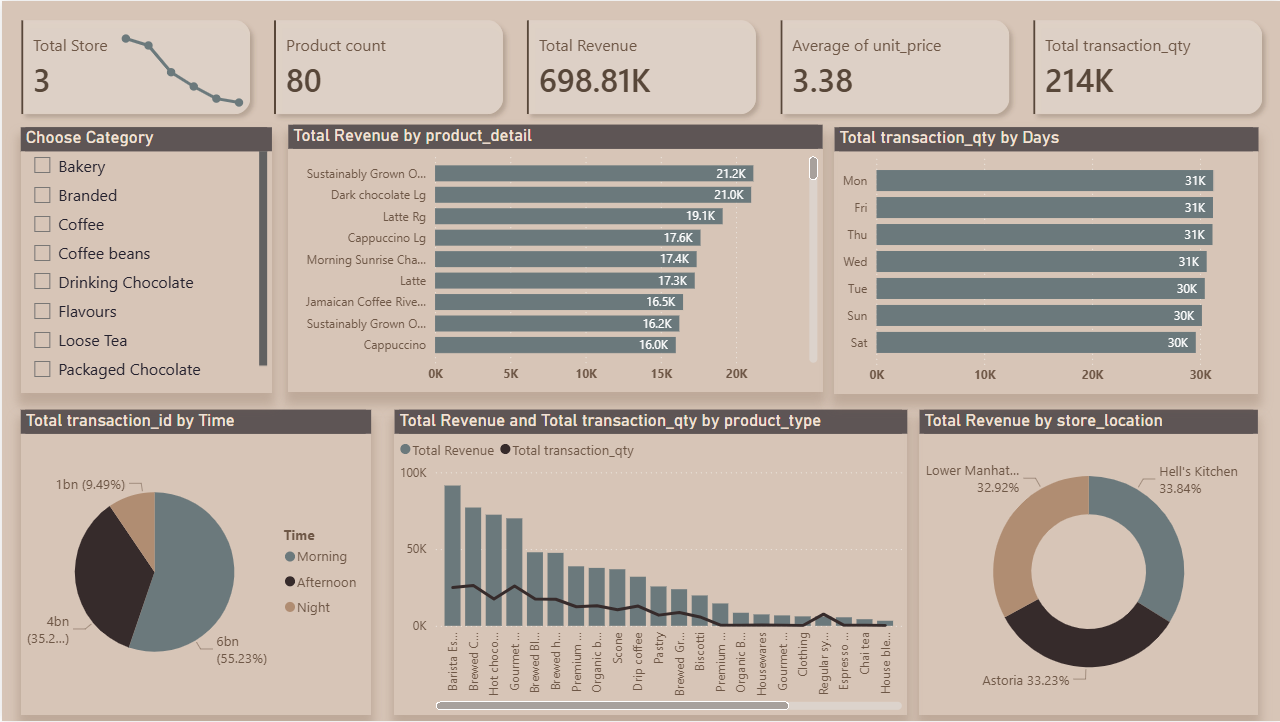

The page's visual inventory and layout, read from the dashboard file:
{"tool":"powerbi","page":{"name":"Home_page","canvas":[1280,720],"ordinal":0},"visuals":[{"type":"cardVisual","fields":{"Data":["Count(DataSet.store_id)","Count(DataSet.product_id)","Sum(DataSet.Revenue)","Avg(DataSet.unit_price)","Sum(DataSet.transaction_qty)"]},"box":[0,0,1280,132.5],"z":0},{"type":"clusteredBarChart","fields":{"Category":["DataSet.product_detail"],"Y":["Sum(DataSet.Revenue)"]},"box":[285.7,124.3,534.3,267.1],"z":1000},{"type":"pieChart","fields":{"Y":["Sum(DataSet.transaction_id)"],"Category":["DataSet.Time"]},"box":[18.6,408.6,350,305.7],"z":2000},{"type":"lineChart","fields":{"Y":["Sum(DataSet.Revenue)"],"Category":["DataSet.Month"]},"box":[110,0,141.2,126.2],"z":3000},{"type":"donutChart","fields":{"Y":["Sum(DataSet.Revenue)"],"Category":["DataSet.store_location"]},"box":[917.5,408.8,338.8,305],"z":4000},{"type":"lineClusteredColumnComboChart","fields":{"Y":["Sum(DataSet.Revenue)"],"Y2":["Sum(DataSet.transaction_qty)"],"Category":["DataSet.product_type"]},"box":[392.5,408.8,512.5,305],"z":5000},{"type":"clusteredBarChart","fields":{"Category":["DataSet.Days"],"Y":["Sum(DataSet.transaction_qty)"]},"box":[832.5,126.2,423.8,266.2],"z":6000},{"type":"slicer","title":"Choose Category","fields":{"Values":["DataSet.product_category"]},"box":[18.6,125.7,251.4,265.7],"z":7000}]}

Visuals, with their boxes in screenshot pixels (x1, y1, x2, y2), scaled from the page's 1280x720 canvas onto the 1280x722 screenshot:
cardVisual - Count(DataSet.store_id) x Count(DataSet.product_id): Rect(0, 0, 1279, 133)
clusteredBarChart - DataSet.product_detail x Sum(DataSet.Revenue): Rect(286, 125, 820, 392)
pieChart - Sum(DataSet.transaction_id) x DataSet.Time: Rect(19, 410, 369, 716)
lineChart - Sum(DataSet.Revenue) x DataSet.Month: Rect(110, 0, 251, 127)
donutChart - Sum(DataSet.Revenue) x DataSet.store_location: Rect(918, 410, 1256, 716)
lineClusteredColumnComboChart - Sum(DataSet.Revenue) x Sum(DataSet.transaction_qty): Rect(392, 410, 905, 716)
clusteredBarChart - DataSet.Days x Sum(DataSet.transaction_qty): Rect(832, 127, 1256, 393)
"Choose Category" slicer: Rect(19, 126, 270, 392)
